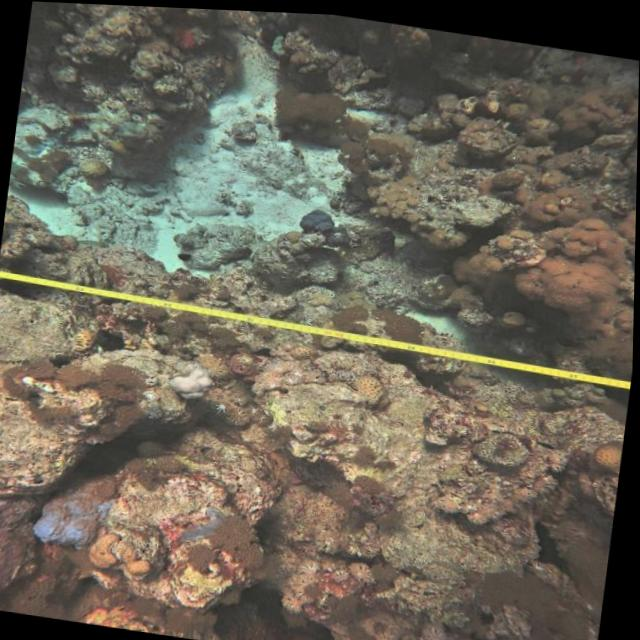Healthy Coral: (489, 181, 637, 325), (0, 339, 167, 445), (255, 72, 365, 138), (328, 290, 442, 353), (329, 122, 425, 190)
